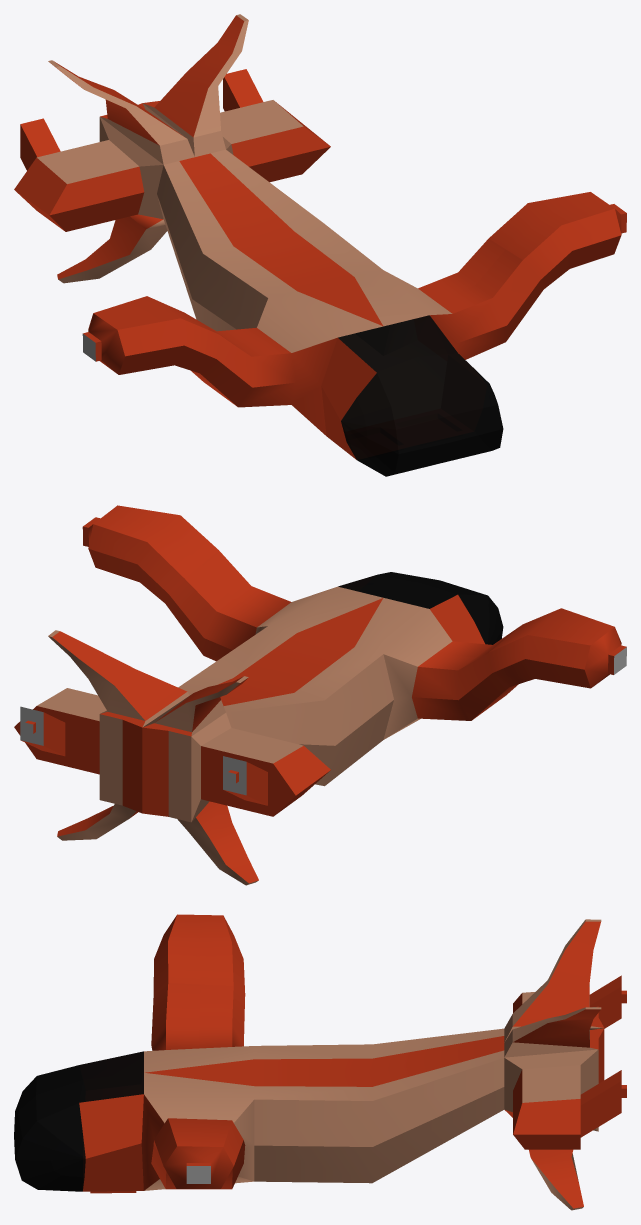
File: dropship.fbx
3 views of the same model, one above another, from view 1: azimuth 30°, elevation 25°; view 2: azimuth 150°, elevation 25°; view 3: azimuth 270°, elevation 25° (orthographic). The views are drawn at different scales.
Parts seen in each view (by area): view 1: polySurface1; view 2: polySurface1; view 3: polySurface1.
Part boxes in pixels (x1=…): polySurface1: x1=14, y1=14, x2=626, y2=476; polySurface1: x1=14, y1=505, x2=626, y2=885; polySurface1: x1=14, y1=914, x2=626, y2=1210.
Size of the model in its own units: 6.47 by 2.5 by 6.77.
